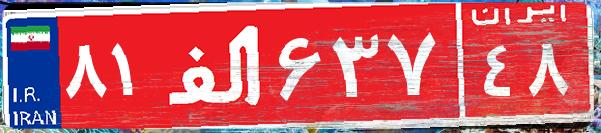1: (110, 28, 158, 105)
3: (330, 28, 385, 110)
4: (475, 38, 525, 113)
6: (273, 28, 330, 110)
7: (385, 28, 445, 110)
8: (57, 26, 110, 107), (525, 38, 570, 115)
الف: (158, 15, 273, 115)
